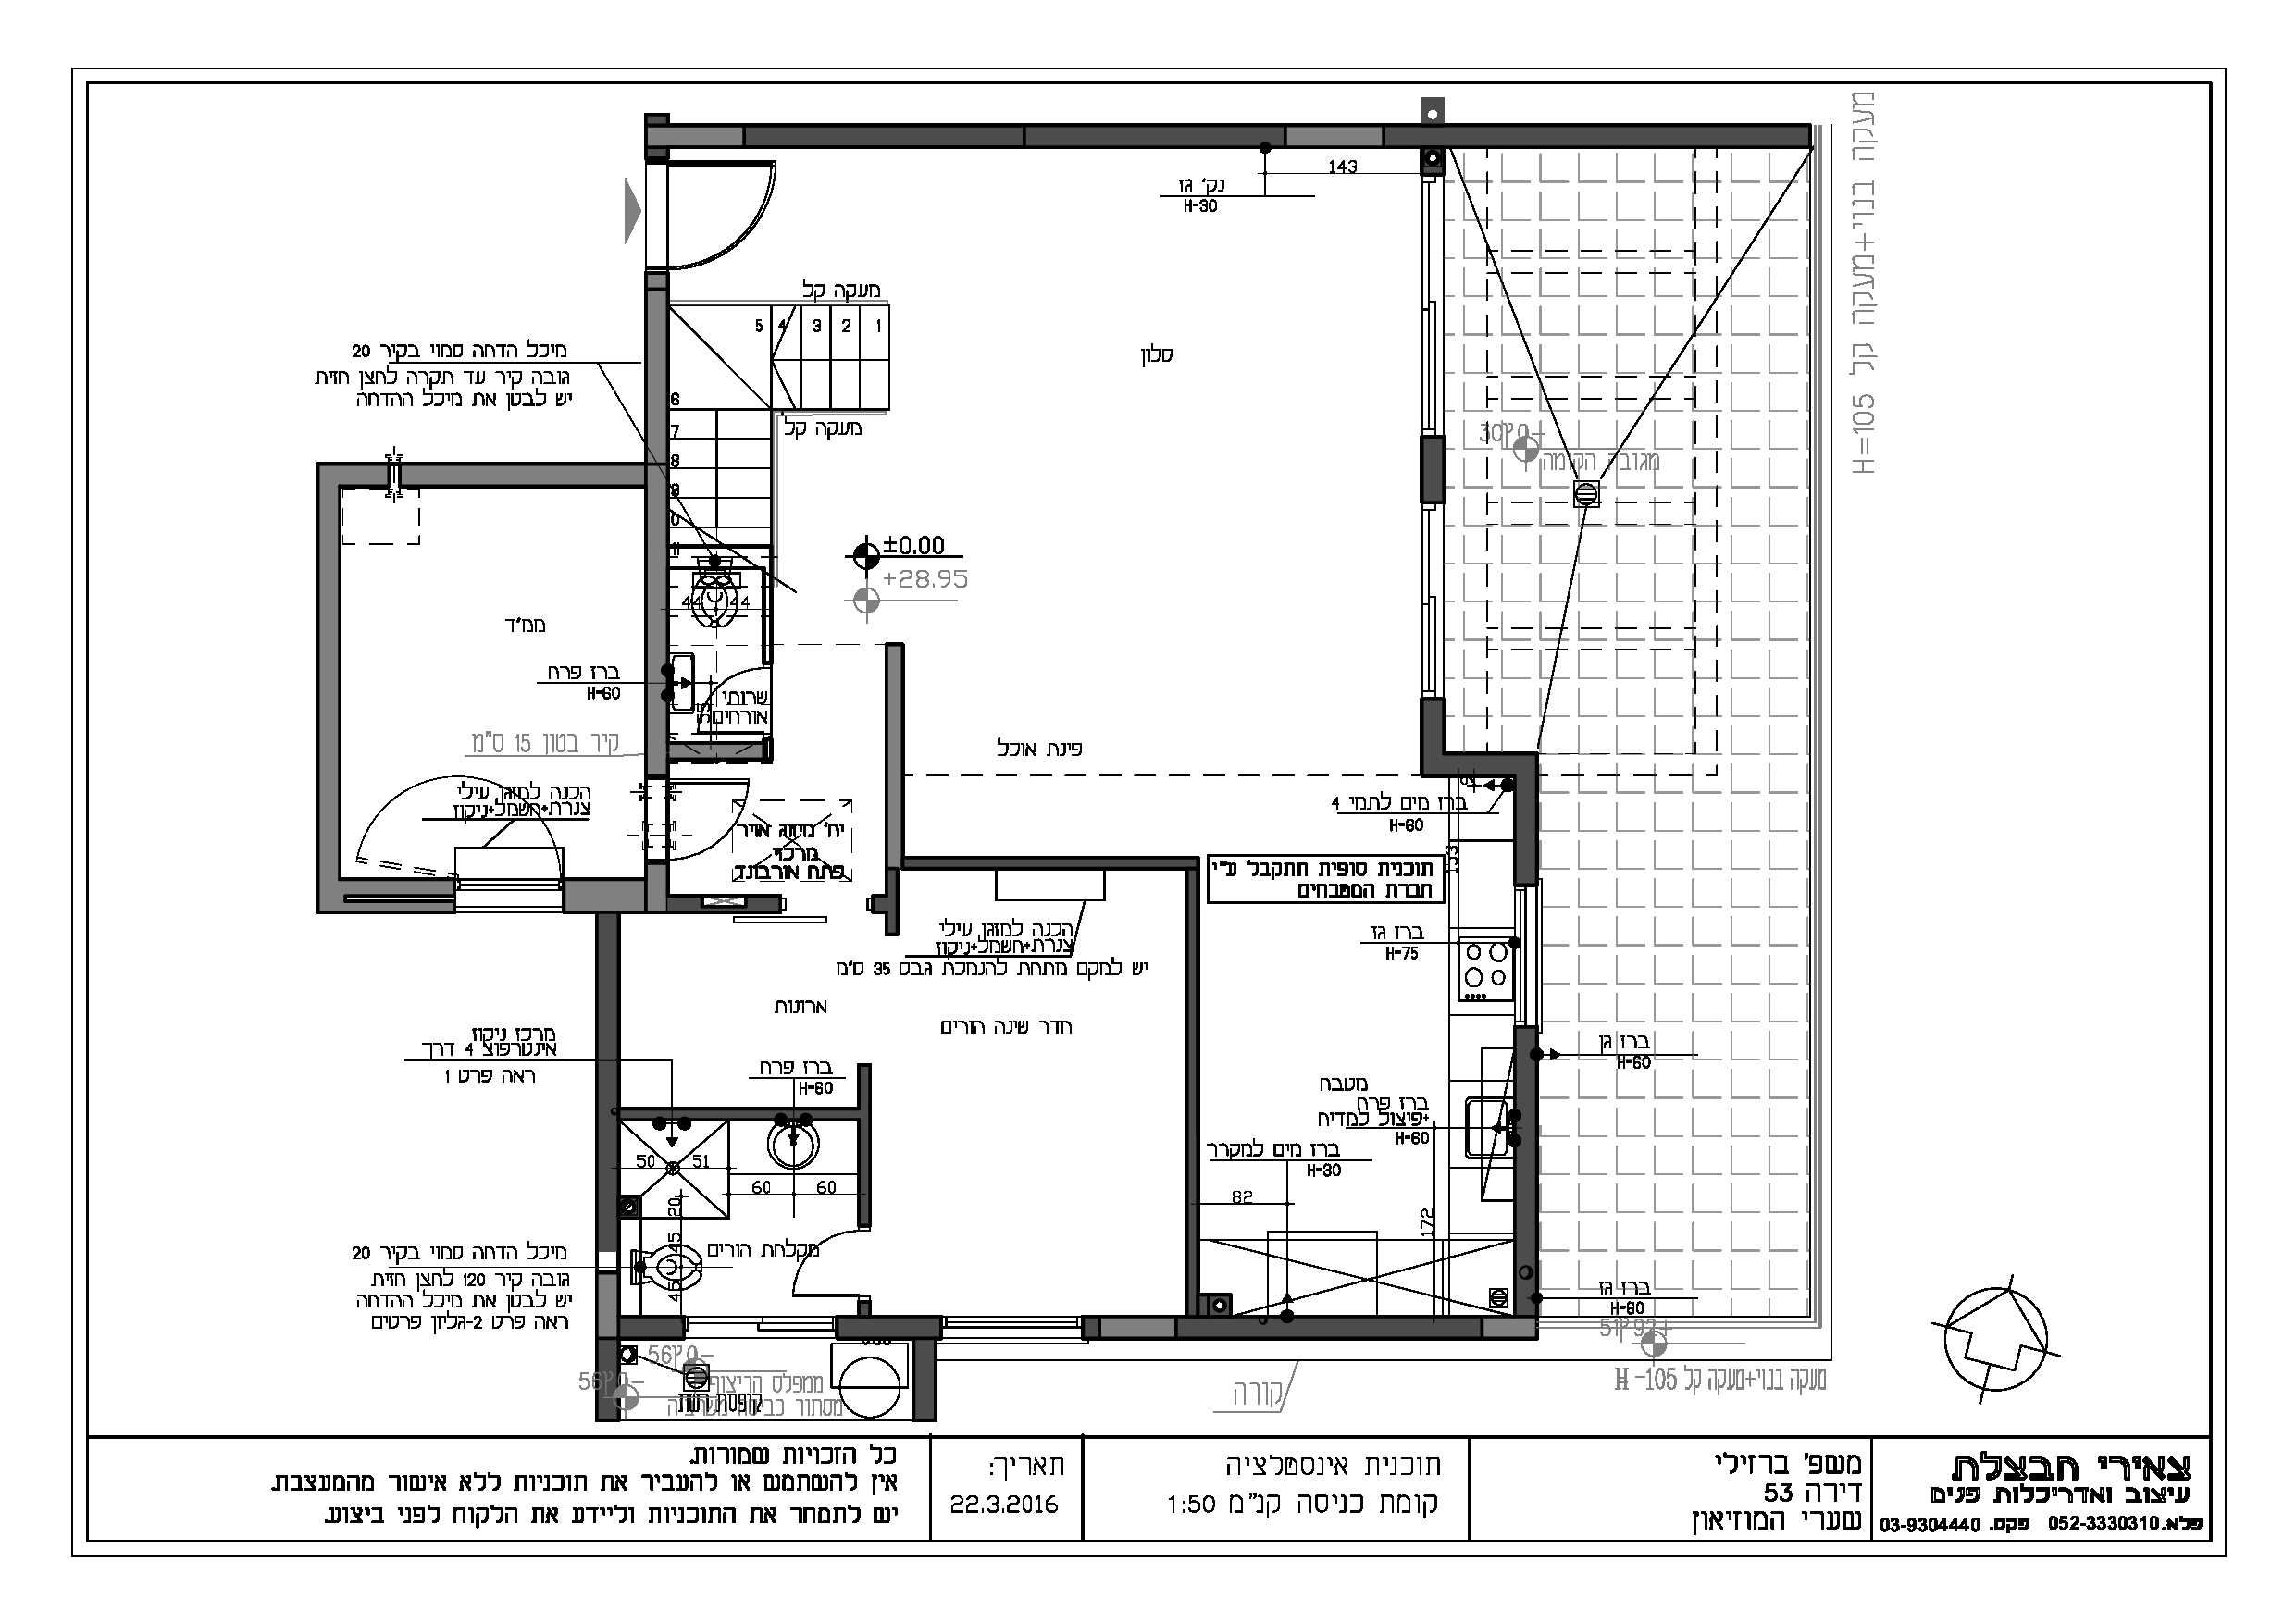door: (652, 153, 783, 269), (776, 1208, 887, 1296), (655, 769, 766, 855)
wall: (596, 882, 620, 1338), (314, 464, 339, 913), (1516, 1024, 1539, 1340), (645, 464, 666, 775), (1511, 752, 1539, 885)
window: (1400, 162, 1472, 455), (1400, 492, 1462, 720), (1495, 864, 1558, 1040), (921, 1309, 1098, 1360)
